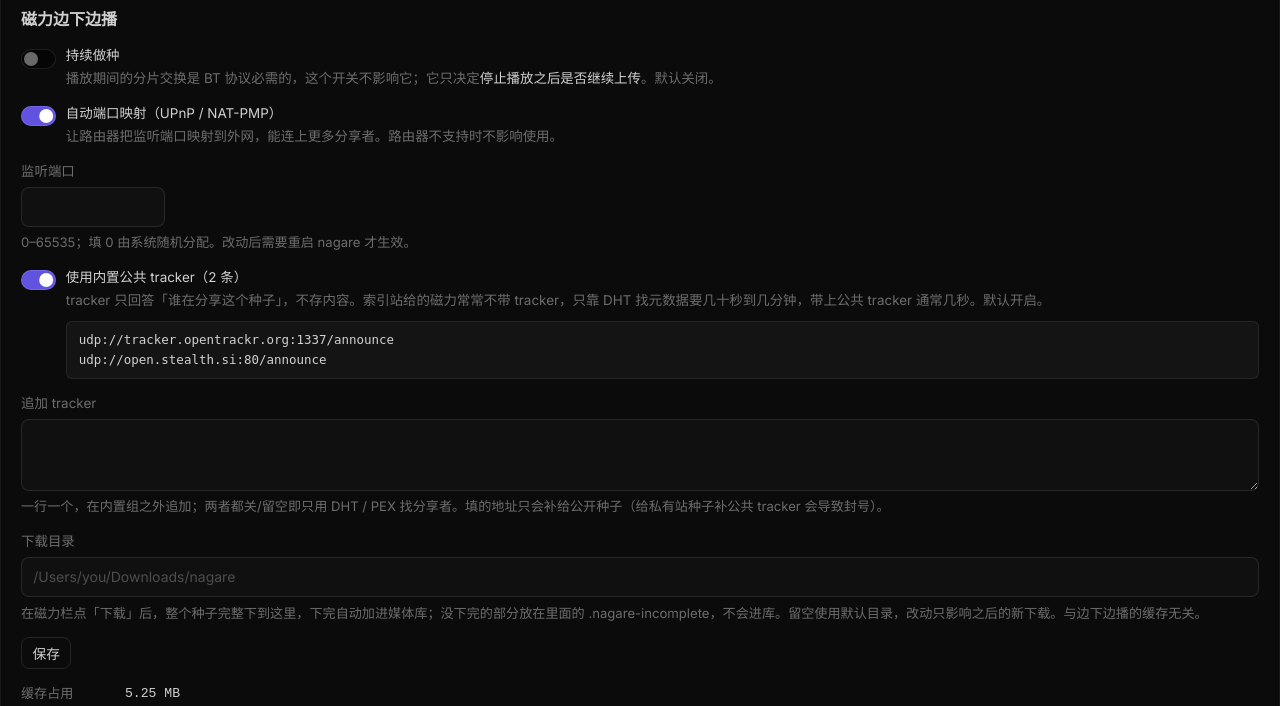
Test: TorrentCard · 端口校验 › 非法端口  不发请求，给出中文说明
This screenshot has width=1280, height=706.
Clear the field labelled "监听端口" at (93, 207), box [21, 187, 165, 227]
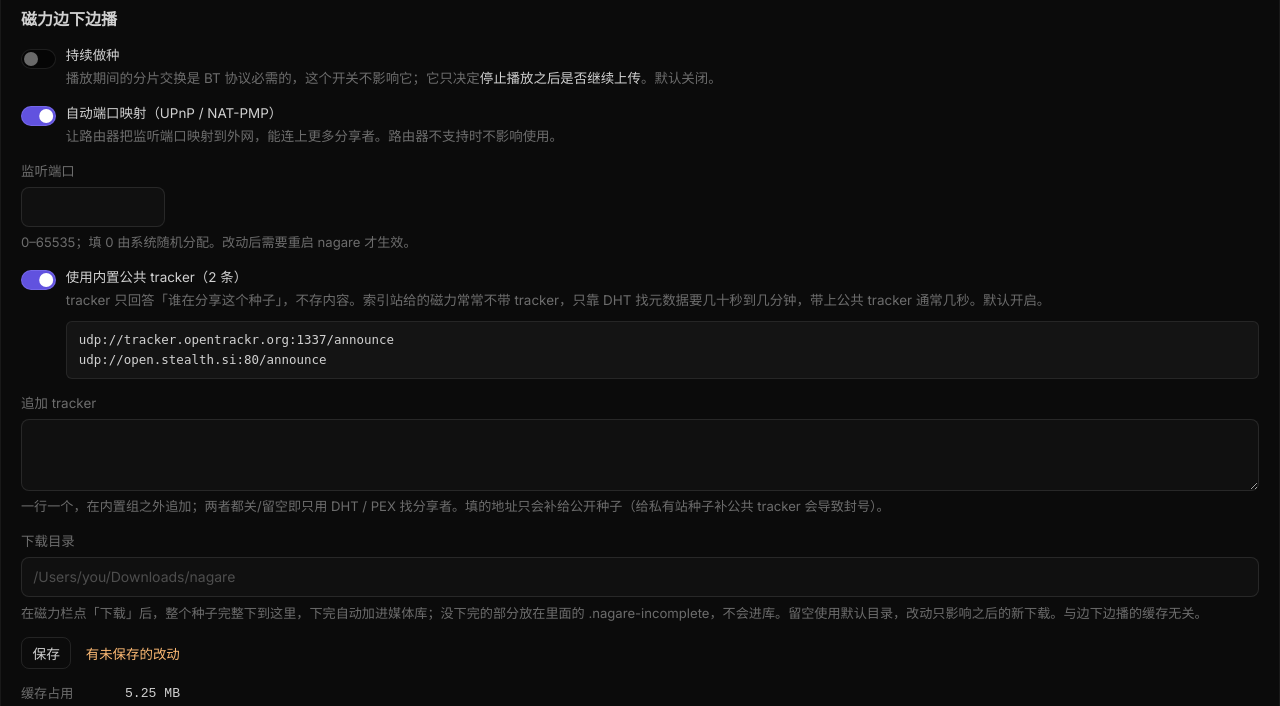
Click the button "保存" at (46, 653), box [21, 637, 71, 669]
(page scrolled)
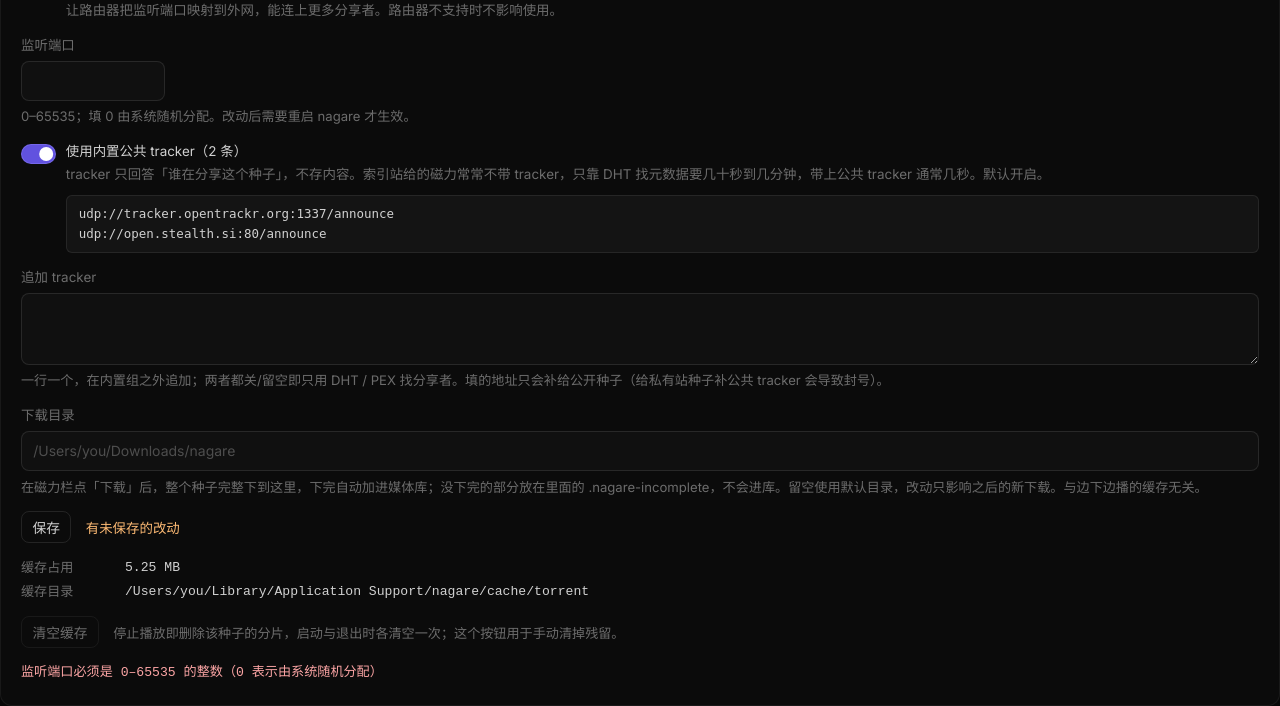
Expected: the message with class "result--err" reads "监听端口必须是 0–65535 的整数（0 表示由系统随机分配）", [21, 665, 383, 680]
